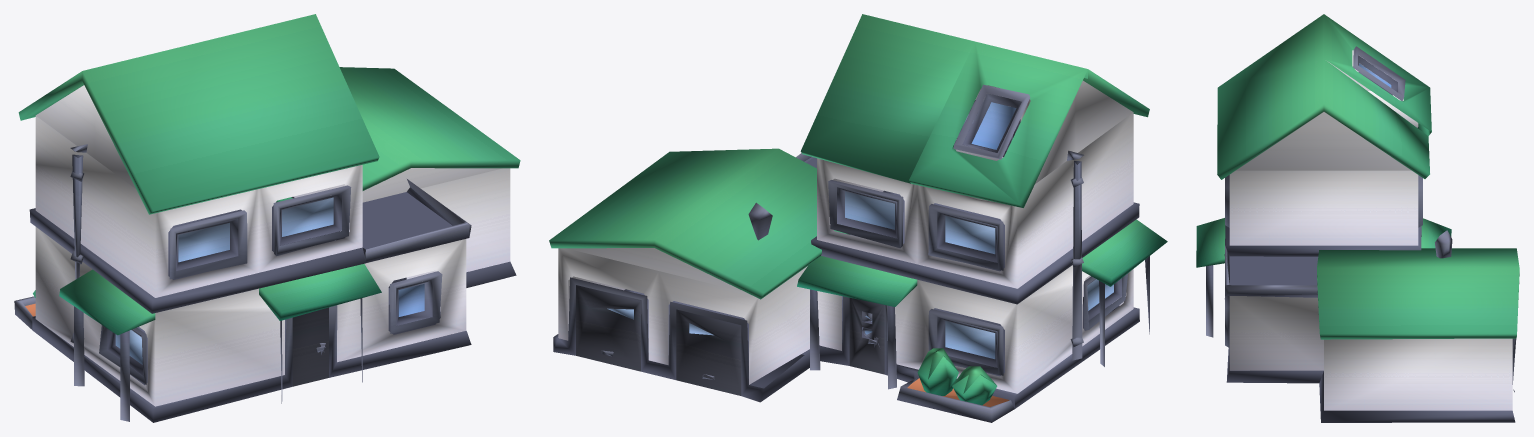
File: house-n-medium.glb
The picture shows the model from 3 angles, left to right: view 1: azimuth 30°, elevation 25°; view 2: azimuth 150°, elevation 25°; view 3: azimuth 270°, elevation 25°; orthographic projection. The views are drawn at different scales.
Parts seen in each view (by area): view 1: building-type-n baked; view 2: building-type-n baked; view 3: building-type-n baked.
Part boxes in pixels (x1,y1,x2,y2): building-type-n baked: (14, 14, 520, 422); building-type-n baked: (549, 14, 1167, 422); building-type-n baked: (1196, 14, 1519, 422).
Size of the model in its own units: 10.9 by 7 by 8.44.
Materials: 1 (1 with a texture image).
